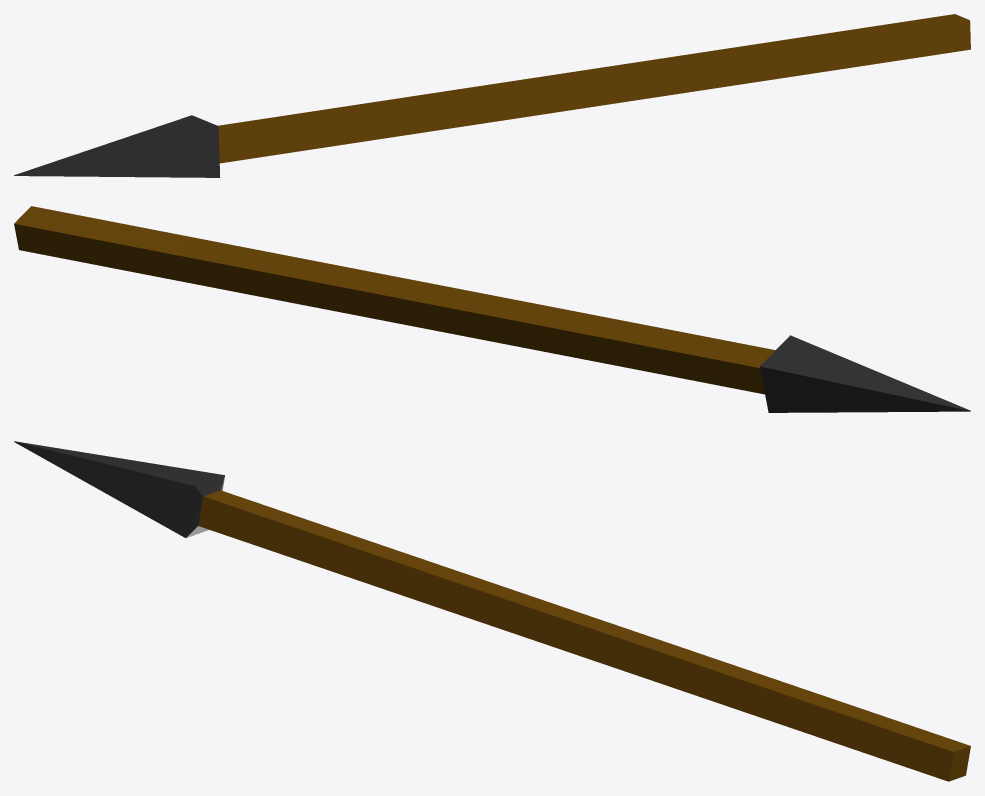
File: Arrow.fbx
3 renders of one model, top to bottom at view 1: azimuth 30°, elevation 25°; view 2: azimuth 150°, elevation 25°; view 3: azimuth 330°, elevation 25°, orthographic. The views are drawn at different scales.
Parts seen in each view (by area): view 1: pCube35; view 2: pCube35; view 3: pCube35.
Part boxes in pixels (box(x1,y1,x2,y2)): pCube35: box(14, 14, 970, 177); pCube35: box(14, 206, 970, 412); pCube35: box(14, 441, 970, 781).
Size of the model in its own units: 0.5266 by 0.053 by 0.0422.
